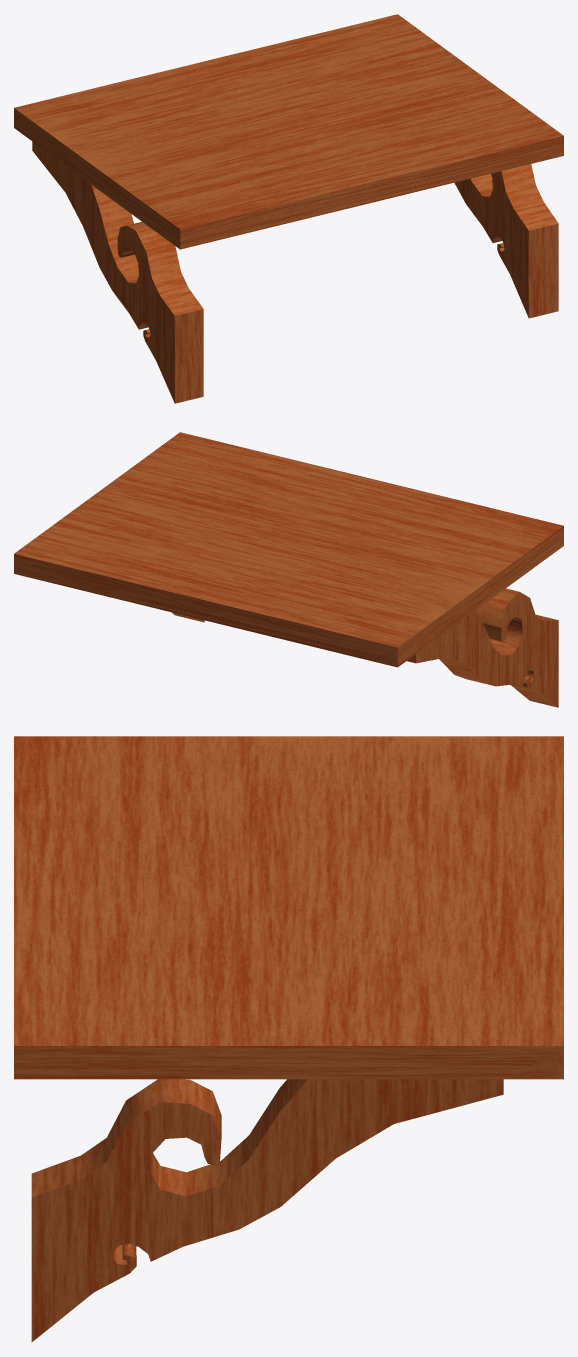
File: shelf.FBX
3 renders of one model, top to bottom at view 1: azimuth 30°, elevation 25°; view 2: azimuth 150°, elevation 25°; view 3: azimuth 270°, elevation 25°, orthographic. The views are drawn at different scales.
Visible parts, largest first — view 1: Box001; view 2: Box001; view 3: Box001.
Boxes of the visible parts, left/top/right/bottom form: Box001: left=14, top=14, right=563, bottom=403; Box001: left=14, top=432, right=563, bottom=707; Box001: left=14, top=736, right=563, bottom=1342.
Size of the model in its own units: 40.01 by 17.86 by 30.
Materials: 1 (1 with a texture image).
